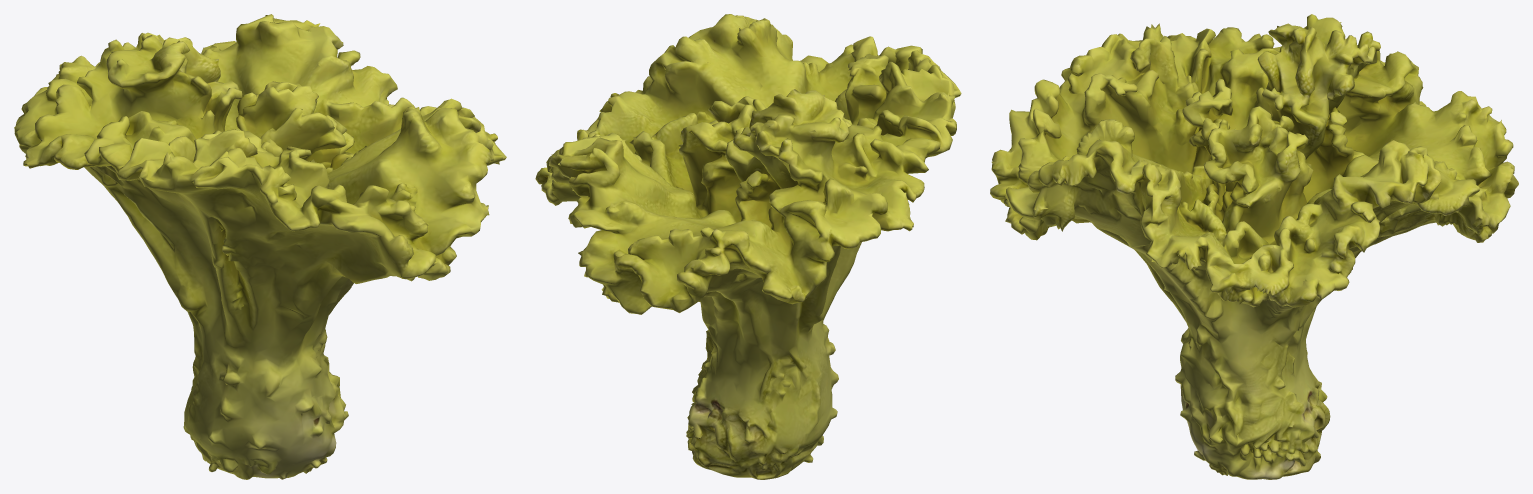
File: coral_leather.glb
3 views of the same model, side by side, from view 1: azimuth 30°, elevation 25°; view 2: azimuth 150°, elevation 25°; view 3: azimuth 270°, elevation 25° (orthographic). The views are drawn at different scales.
Parts seen in each view (by area): view 1: tripo_node_7fbf03ee-22d6-408d-8c4c-655544d54a41; view 2: tripo_node_7fbf03ee-22d6-408d-8c4c-655544d54a41; view 3: tripo_node_7fbf03ee-22d6-408d-8c4c-655544d54a41.
Boxes of the visible parts, x1=… form: tripo_node_7fbf03ee-22d6-408d-8c4c-655544d54a41: x1=14, y1=14, x2=506, y2=479; tripo_node_7fbf03ee-22d6-408d-8c4c-655544d54a41: x1=535, y1=14, x2=961, y2=479; tripo_node_7fbf03ee-22d6-408d-8c4c-655544d54a41: x1=990, y1=14, x2=1518, y2=479.
Bounding box in the file's own units: 0.8598 × 0.839 × 1.
1 material, 1 textured.
